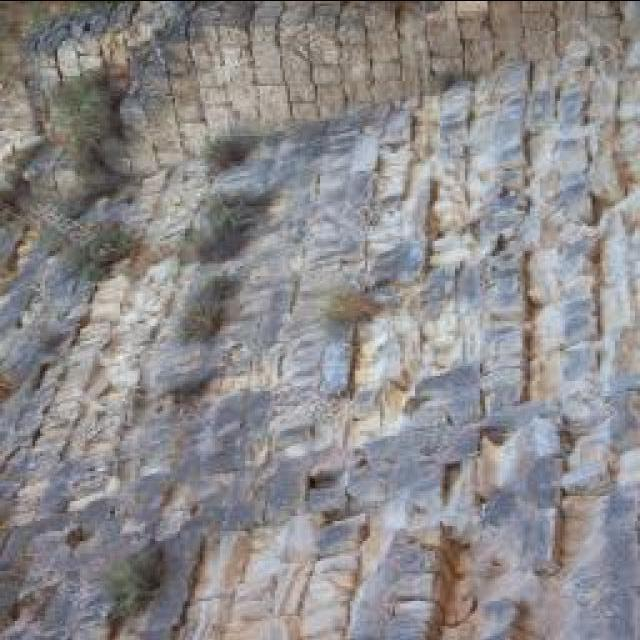Crack: (1, 2, 638, 637)
